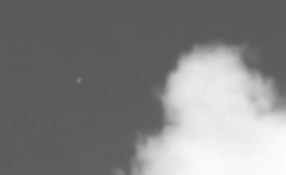Target: (77, 79, 81, 82)
